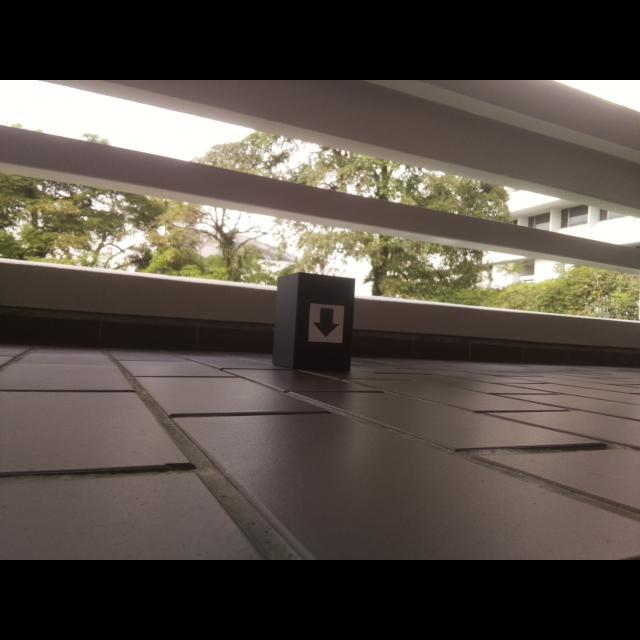DOWN: (311, 306, 340, 339)
